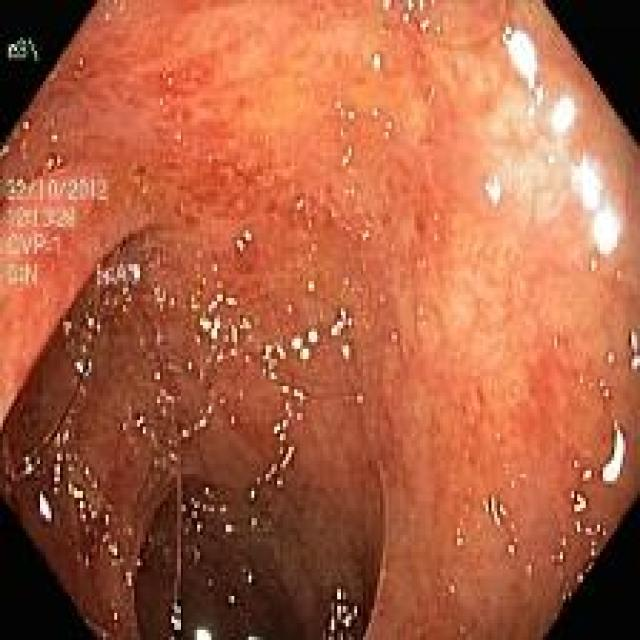ulcerative-colitis-grade-1: (1, 3, 638, 640)
